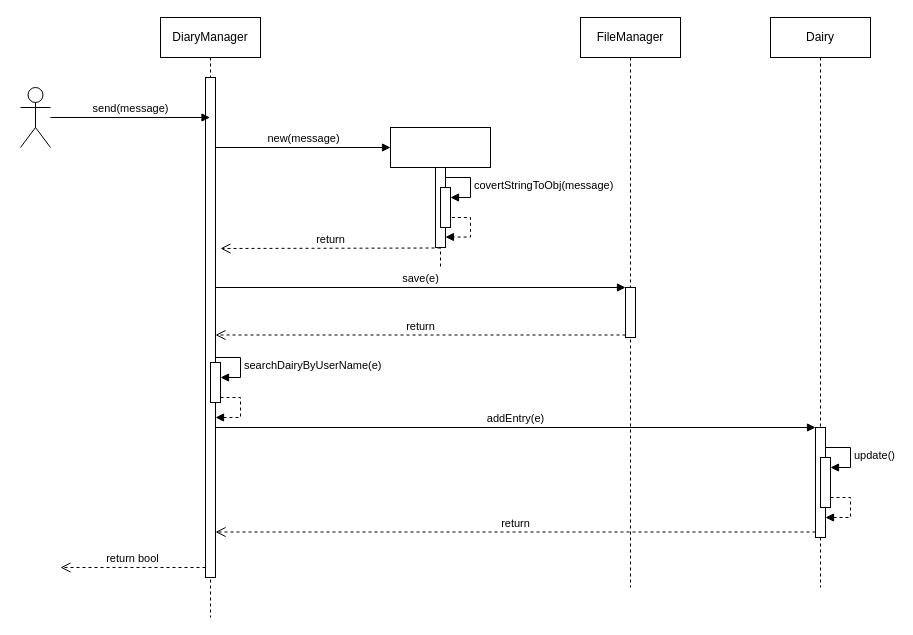
Some shapes in this 913 by 635 pixel diagram are drawn without their labels. The centre of each missing label's shape, as x and y in pixels:
e:Entry: the point at 440,197
Patient: the point at 35,117
